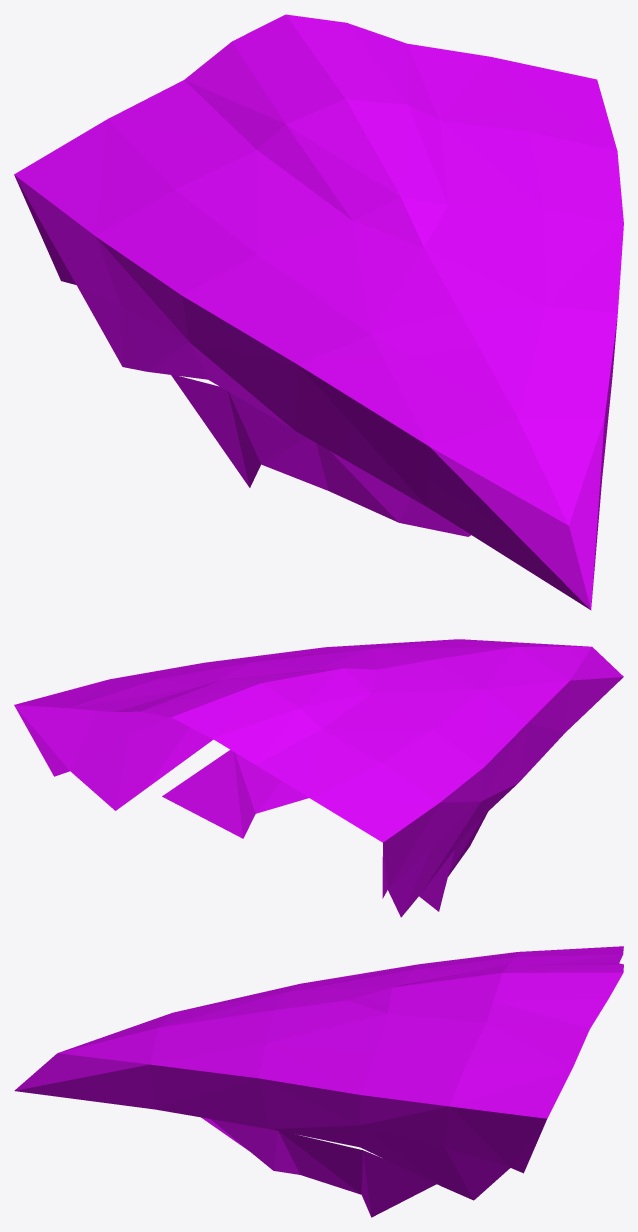
The model's file is ZXWm_052_artillery_t1_buff09.FBX.
3 views of the same model, one above another, from view 1: azimuth 30°, elevation 25°; view 2: azimuth 150°, elevation 25°; view 3: azimuth 270°, elevation 25° (orthographic). The views are drawn at different scales.
Visible parts, largest first — view 1: BUFF_01; view 2: BUFF_01; view 3: BUFF_01.
Part boxes in pixels (x1,y1,x2,y2): BUFF_01: (14,14,623,610); BUFF_01: (14,639,623,917); BUFF_01: (14,946,623,1217).
Bounding box in the file's own units: 102 × 58.2 × 148.
